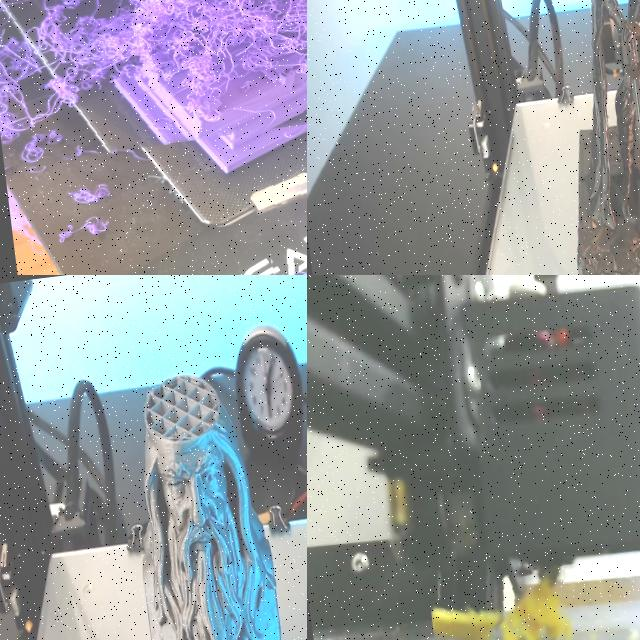spaghetti: (0, 0, 307, 168), (431, 566, 567, 640), (256, 167, 307, 275), (41, 215, 122, 240), (65, 180, 122, 207)
